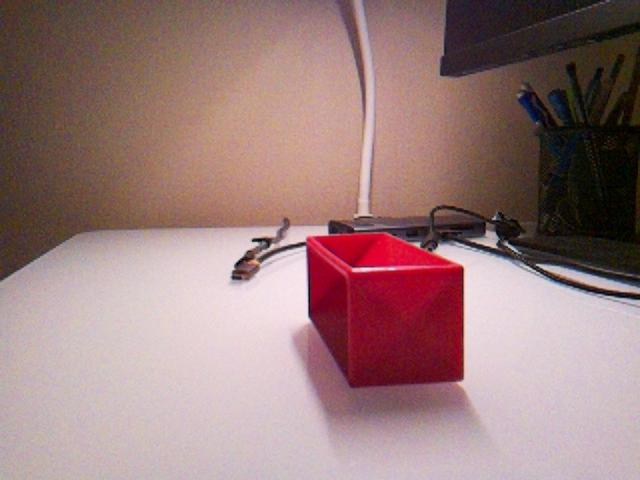red: (304, 231, 466, 389)
